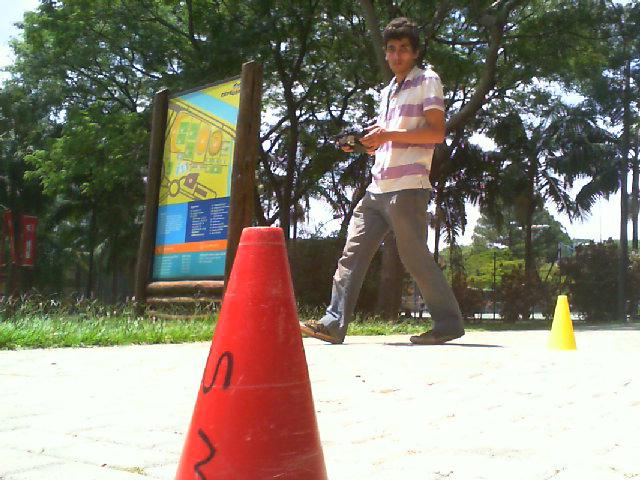0 cone: (172, 227, 328, 480), (546, 296, 578, 352)
